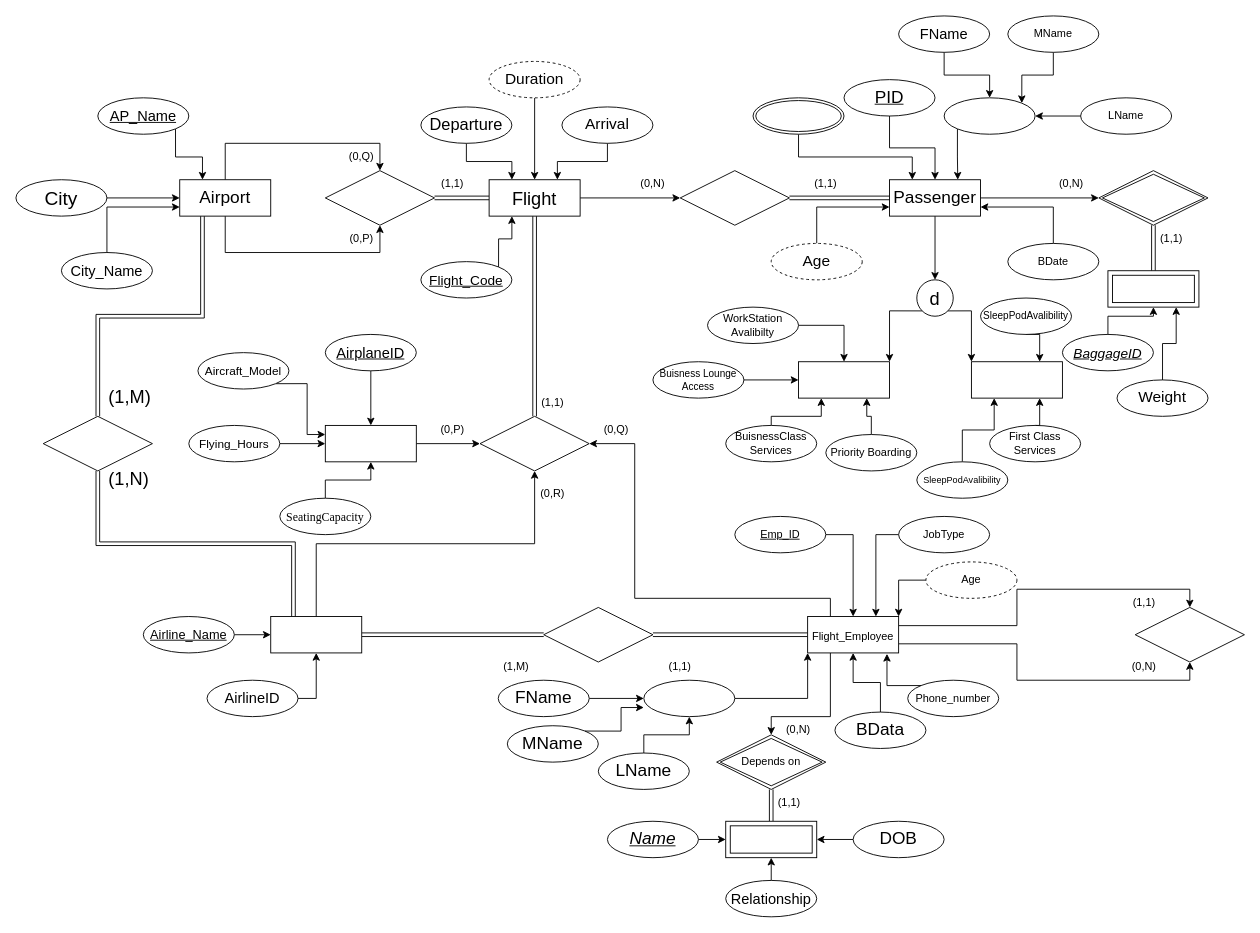
The diagram is 1260 pixels wide and 933 high, and some of its shapes have lost their labels. Each missing label, with the centre of its shape:
"Airline" goes at (316,634).
"Airplane" goes at (370,443).
"Baggage" goes at (1153,288).
"Boarding Flight" goes at (734,197).
"Buisness_class" goes at (844,379).
"Connects" goes at (379,197).
"Dependant" goes at (771,839).
"EName" goes at (689,698).
"First_class" goes at (1016,379).
"Flight Details" goes at (534,443).
"Luggage" goes at (1153,197).
"Operates" goes at (97,443).
"Phone Number" goes at (798,115).
"PName" goes at (989,115).
"Supervises" goes at (1189,634).
"Works_For" goes at (598,634).
